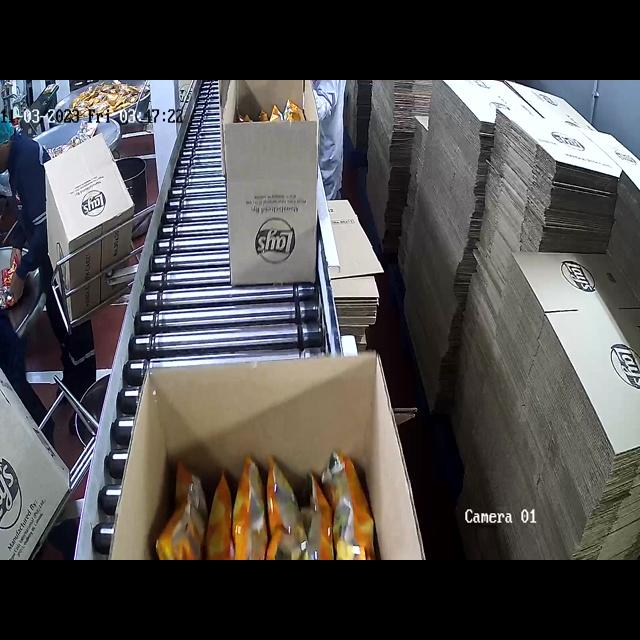cheese: (160, 453, 374, 560), (225, 96, 316, 136)
